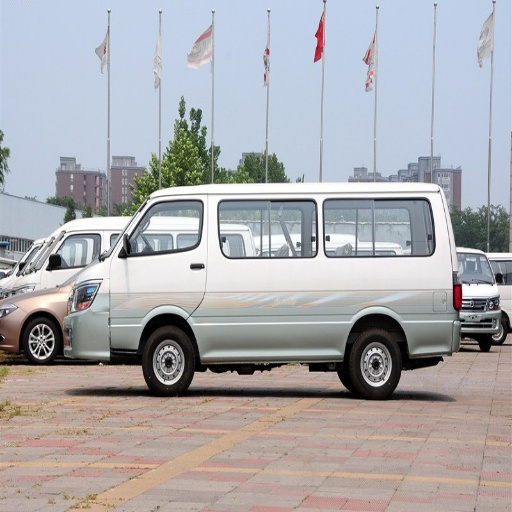trunk: (263, 260, 489, 356)
